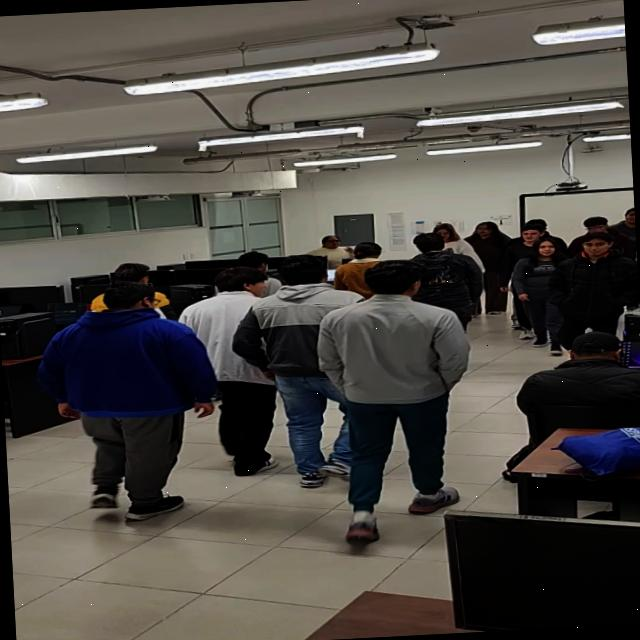Persona: (324, 252, 471, 554), (33, 278, 203, 530), (243, 248, 349, 483), (184, 258, 277, 478), (562, 228, 638, 360), (518, 234, 568, 356), (464, 212, 518, 319)
